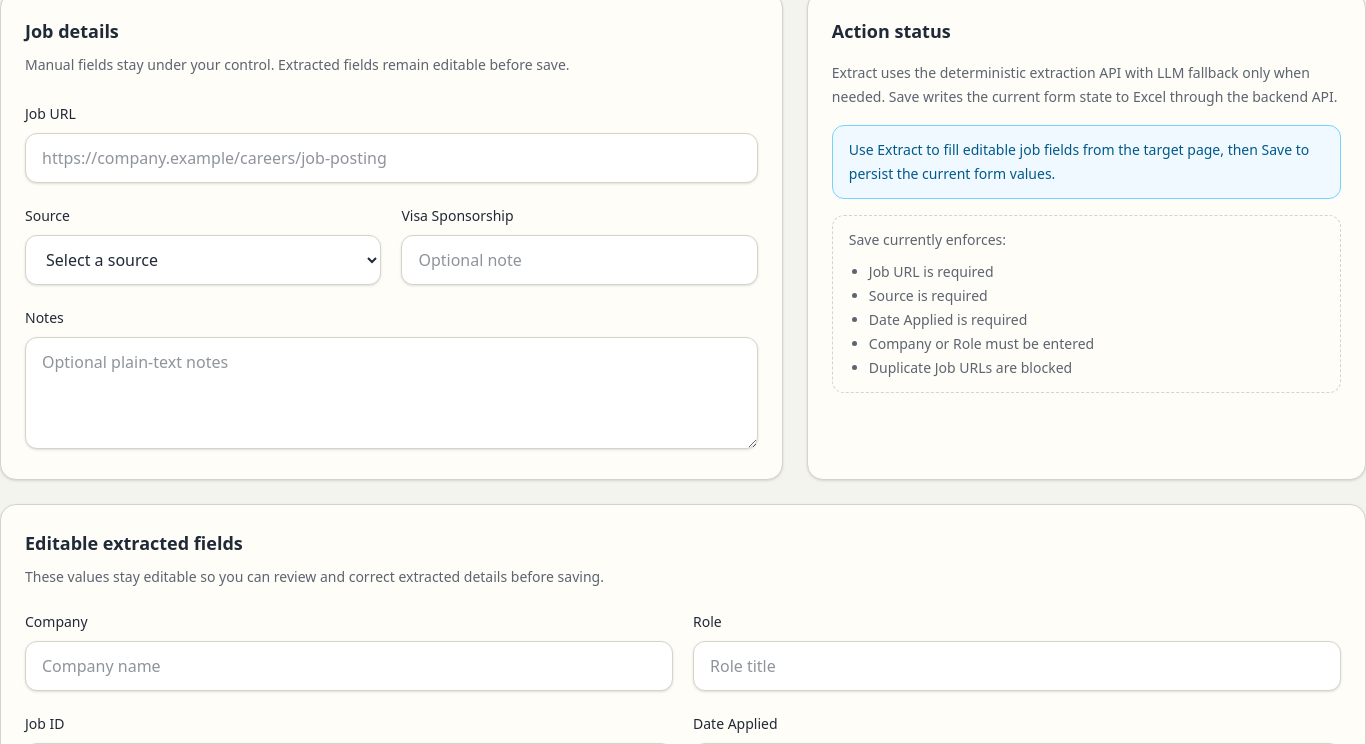
Scenario: AddJobForm › ignores a stale extraction result after the target URL changes
This screenshot has width=1366, height=744.
Step 1. Type "https://jobs.example.com/frontend-role" into the field labelled "Job URL" → (391, 158), box [25,133,758,183]
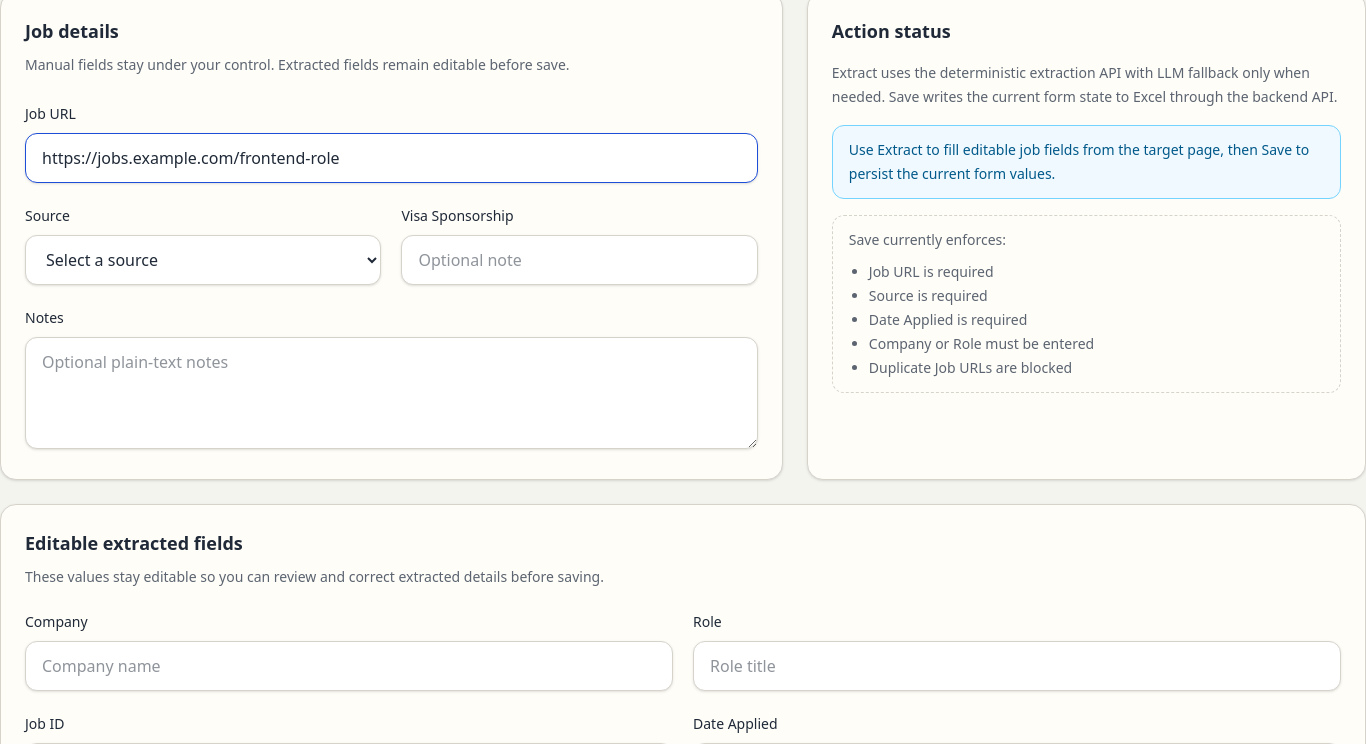
Step 2. Select "LinkedIn" in the dropdown labelled "Source" → (203, 260), box [25,235,381,285]
(page scrolled)
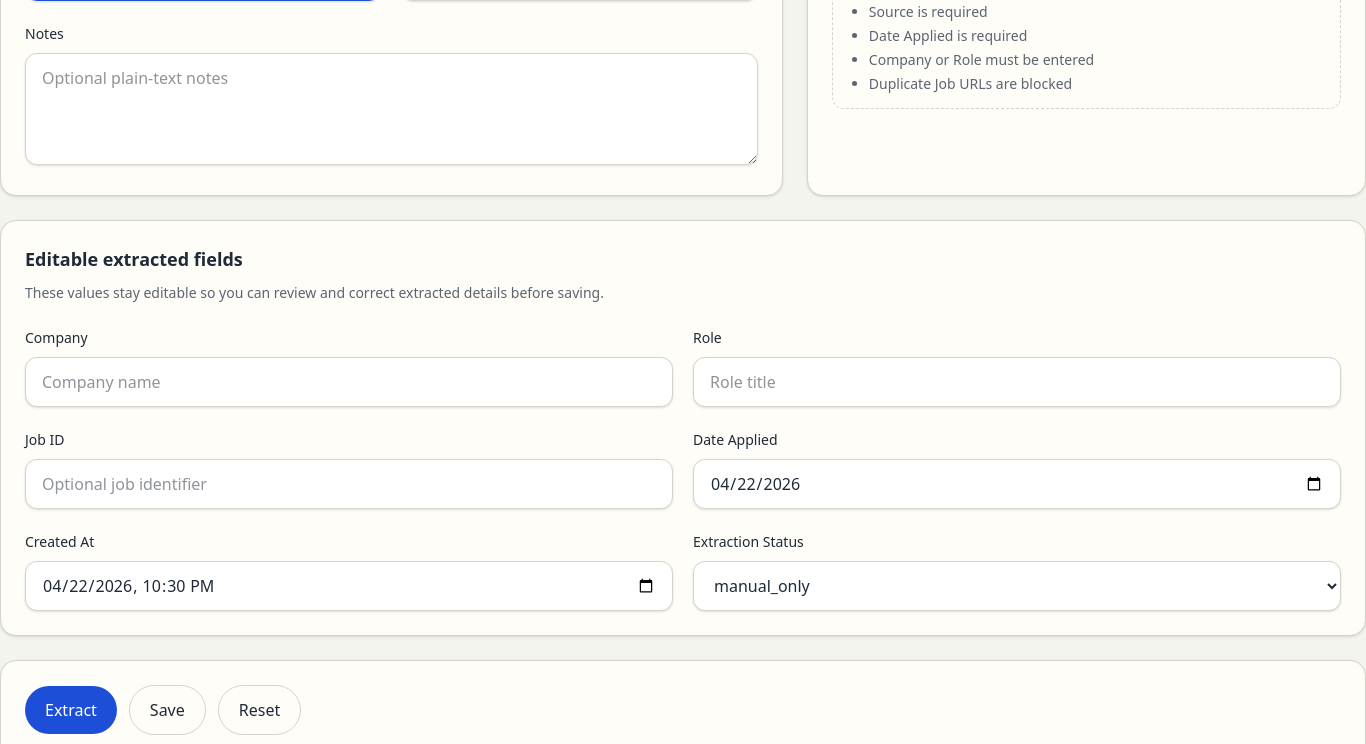
Step 3. Click the button "Extract" → click(71, 710), box [25,686,117,734]
(page scrolled)
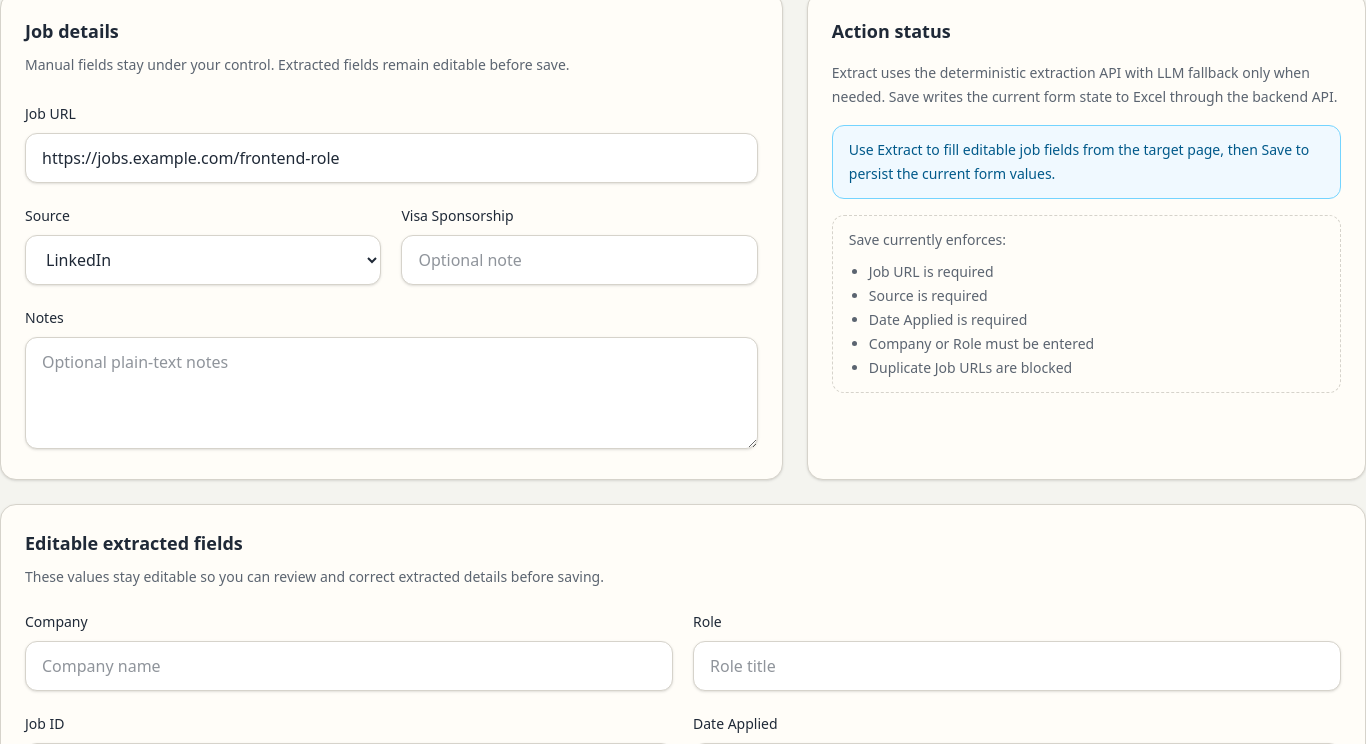
Step 4. Replace the text in the field labelled "Job URL" with "https://jobs.example.com/changed-role" → (391, 158), box [25,133,758,183]
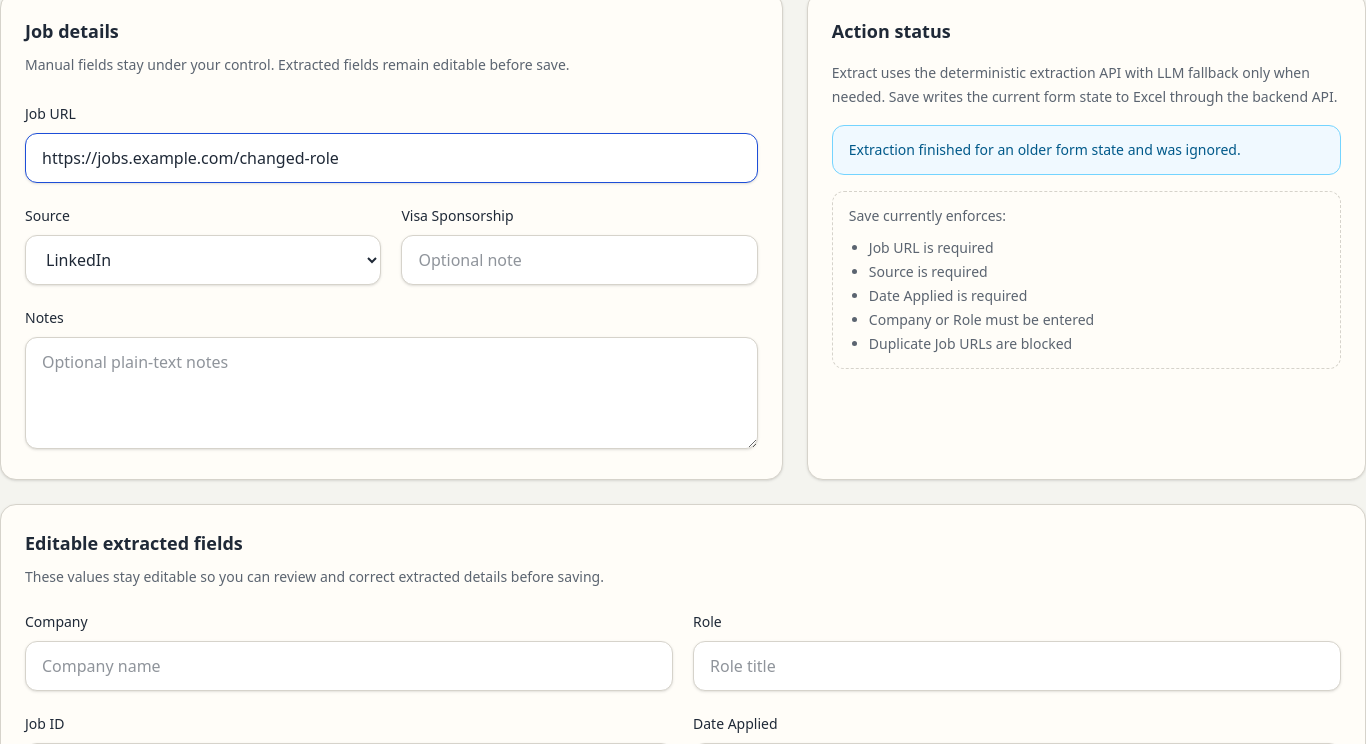
Expected: the field labelled "Company" is empty, [25,641,673,691]
Expected: the text "Extraction finished for an older form state and was ignored." is shown, [832,125,1341,175]
